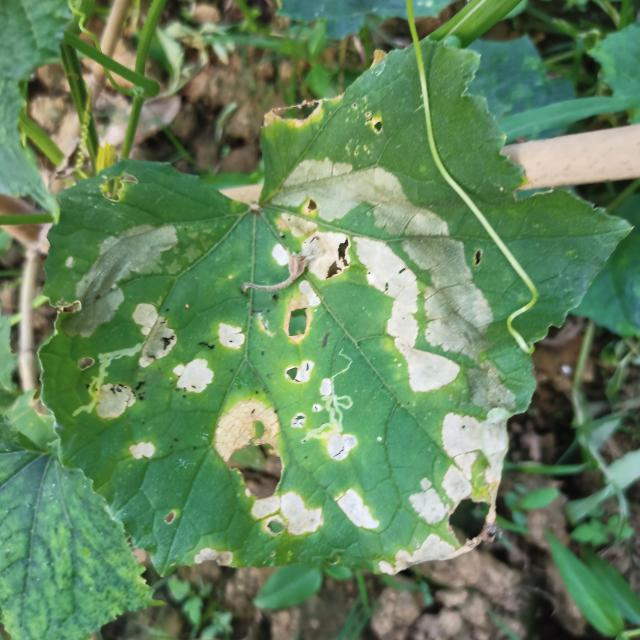disease_cucumber: (188, 382, 512, 578), (262, 142, 507, 395), (61, 215, 247, 472)
